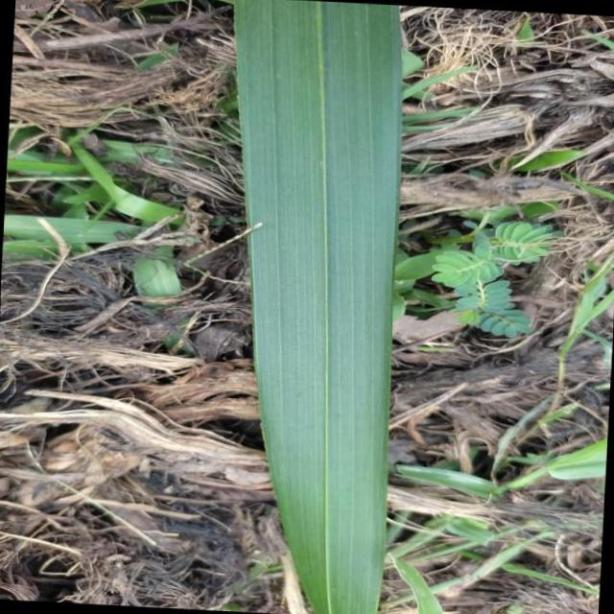Healthy: (240, 0, 409, 614)
